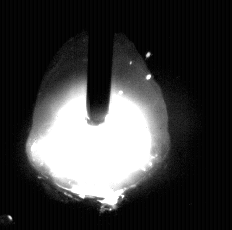arame: (87, 0, 111, 126)
poca: (26, 0, 172, 230)
